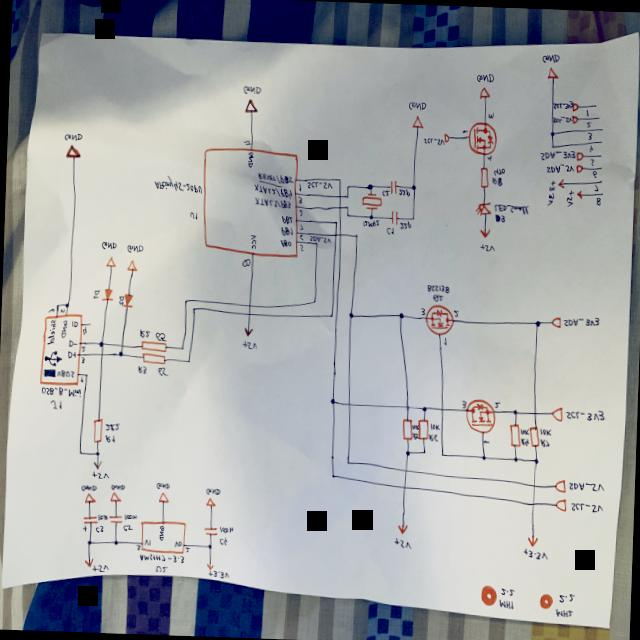capacitor: (80, 514, 98, 532), (202, 524, 218, 537), (388, 209, 398, 225), (388, 178, 397, 194), (108, 514, 121, 522)
crossover: (528, 500, 534, 508), (530, 408, 536, 416), (438, 404, 444, 412), (335, 203, 341, 210), (401, 482, 406, 490), (336, 192, 342, 198), (332, 230, 337, 237), (404, 403, 409, 409), (98, 351, 103, 357), (246, 302, 251, 308), (337, 230, 341, 237), (346, 400, 350, 406), (403, 466, 407, 472), (531, 482, 535, 488), (119, 342, 123, 347), (246, 311, 250, 315)
diode: (474, 200, 491, 217), (100, 286, 112, 300), (121, 292, 132, 306)
ground: (242, 97, 258, 113), (64, 143, 80, 158), (410, 114, 422, 128), (546, 66, 558, 78), (156, 490, 168, 502), (125, 258, 136, 270), (108, 491, 120, 502), (82, 492, 94, 502), (104, 255, 114, 267), (204, 496, 214, 506)
junction: (115, 348, 124, 358), (532, 318, 540, 328), (396, 310, 403, 320), (328, 396, 334, 406), (531, 456, 538, 464), (347, 310, 352, 320), (420, 404, 426, 412), (480, 452, 486, 460), (511, 454, 517, 462), (511, 408, 517, 416), (111, 538, 117, 546), (328, 471, 334, 479), (190, 304, 196, 312), (182, 297, 188, 305), (97, 339, 103, 347), (327, 312, 333, 320), (84, 539, 90, 546), (366, 182, 372, 189), (404, 448, 409, 456), (310, 298, 316, 304), (352, 232, 358, 238), (548, 130, 554, 136), (178, 344, 183, 351), (344, 458, 349, 465), (184, 358, 190, 363), (336, 176, 341, 182), (409, 214, 414, 220), (63, 301, 68, 307), (410, 183, 414, 190), (439, 451, 444, 456), (368, 213, 372, 219), (94, 450, 98, 456), (207, 542, 210, 549), (78, 449, 82, 454), (421, 448, 425, 453), (343, 205, 348, 209), (333, 219, 337, 224), (83, 372, 87, 377), (549, 143, 553, 148), (344, 184, 348, 188), (344, 194, 348, 198), (54, 302, 58, 306), (344, 212, 348, 216), (313, 241, 317, 245)
resistor: (140, 338, 166, 352), (506, 422, 520, 447), (140, 351, 164, 364), (90, 417, 102, 442), (400, 417, 413, 439), (526, 425, 539, 447), (416, 418, 428, 440), (478, 165, 488, 188)
source: (550, 404, 563, 422), (478, 85, 489, 99), (397, 522, 408, 534), (526, 535, 538, 546), (477, 226, 489, 237), (242, 326, 252, 336), (82, 556, 92, 566), (92, 460, 101, 470), (556, 177, 564, 188), (575, 188, 581, 198), (205, 562, 212, 570)
terminal: (554, 496, 566, 511), (552, 478, 564, 492), (550, 315, 559, 327), (574, 149, 582, 161), (570, 114, 578, 124), (574, 162, 582, 172), (570, 100, 578, 110), (442, 132, 448, 142), (598, 178, 602, 183), (592, 102, 596, 106), (598, 165, 602, 169), (599, 139, 602, 143), (598, 153, 601, 157), (597, 115, 599, 119), (600, 126, 602, 130), (600, 191, 602, 195)
text: (152, 174, 202, 194), (250, 182, 291, 198), (564, 408, 604, 423), (559, 314, 599, 328), (255, 170, 292, 185), (138, 552, 182, 564), (252, 195, 290, 208), (40, 385, 80, 397), (492, 202, 528, 214), (538, 148, 574, 160), (567, 481, 603, 492), (521, 546, 547, 560), (569, 501, 602, 512), (544, 162, 573, 174), (553, 604, 573, 619), (424, 282, 448, 294), (46, 318, 56, 346), (540, 51, 560, 64), (545, 179, 555, 205), (393, 536, 411, 550), (556, 590, 574, 604), (552, 98, 572, 110), (306, 180, 332, 189), (422, 136, 444, 146), (206, 568, 228, 578), (125, 242, 143, 254), (406, 100, 426, 110), (62, 130, 82, 140), (551, 114, 571, 124), (475, 71, 493, 82), (242, 84, 260, 95), (361, 217, 379, 228), (90, 469, 108, 480), (308, 234, 330, 243), (54, 368, 73, 378), (203, 485, 220, 496), (477, 242, 495, 252), (564, 188, 574, 206), (497, 597, 512, 609), (240, 339, 256, 350), (100, 239, 116, 250), (244, 150, 253, 168), (58, 318, 66, 338), (216, 524, 232, 534), (80, 482, 96, 492), (103, 421, 119, 431), (278, 225, 292, 236), (248, 232, 256, 250), (91, 563, 107, 572), (137, 328, 151, 338), (499, 586, 514, 595), (398, 219, 411, 229), (538, 426, 551, 436), (156, 524, 164, 540), (156, 366, 168, 376), (154, 331, 166, 341), (492, 212, 504, 222), (280, 214, 292, 224), (109, 482, 124, 490), (49, 398, 61, 408), (154, 481, 168, 489), (491, 175, 502, 185), (492, 166, 504, 175), (431, 292, 443, 301), (216, 536, 226, 546), (136, 364, 146, 374), (538, 437, 548, 447), (104, 433, 115, 442), (122, 513, 136, 520), (66, 347, 74, 359), (278, 238, 290, 246), (154, 564, 166, 572), (240, 256, 249, 266), (397, 188, 409, 195), (172, 538, 180, 548), (142, 538, 150, 548), (91, 288, 99, 298), (66, 338, 74, 348), (69, 318, 77, 328), (96, 512, 106, 520), (121, 523, 131, 531), (427, 432, 437, 440), (520, 436, 528, 446), (518, 426, 528, 434), (188, 210, 196, 219), (492, 399, 500, 408), (117, 294, 123, 306), (428, 422, 438, 429), (385, 226, 393, 234), (242, 138, 250, 146), (94, 524, 102, 532), (594, 196, 600, 206), (586, 130, 592, 140), (381, 188, 388, 196), (411, 431, 418, 439), (81, 325, 86, 335), (459, 399, 465, 407), (46, 306, 54, 312), (452, 308, 458, 316), (590, 170, 596, 178), (592, 182, 598, 190), (486, 153, 492, 161), (183, 546, 190, 552), (411, 423, 418, 429), (460, 128, 467, 134), (487, 110, 492, 118), (79, 355, 84, 363), (296, 182, 300, 192), (419, 306, 424, 314), (442, 336, 446, 346), (587, 144, 592, 152), (588, 157, 593, 165), (58, 306, 64, 312), (584, 120, 590, 126), (297, 208, 302, 215), (298, 243, 302, 251), (298, 232, 302, 240), (298, 222, 302, 230), (78, 374, 82, 382), (584, 108, 588, 116), (80, 344, 85, 350), (134, 543, 139, 549), (296, 195, 300, 202), (482, 438, 488, 442)
transistor: (464, 396, 495, 434), (466, 120, 496, 155), (422, 302, 453, 335)
